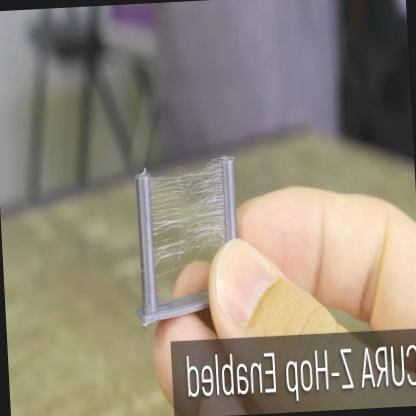fail: (147, 159, 226, 249)
